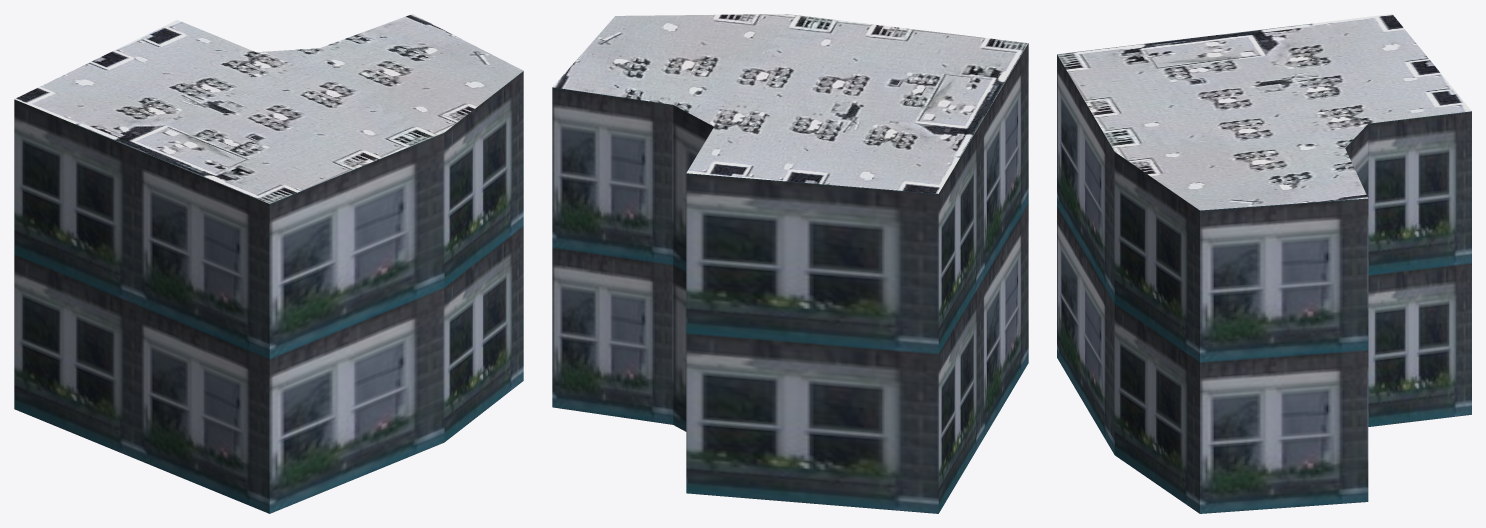
The model's file is ResTex__2841.fbx.
3 views of the same model, side by side, from view 1: azimuth 30°, elevation 25°; view 2: azimuth 150°, elevation 25°; view 3: azimuth 270°, elevation 25° (orthographic). The views are drawn at different scales.
Visible parts, largest first — view 1: CityEngineMaterial_11_m, CityEngineMaterial_m; view 2: CityEngineMaterial_11_m, CityEngineMaterial_m; view 3: CityEngineMaterial_11_m, CityEngineMaterial_m.
Part boxes in pixels (box(x1,y1,x2,y2)): CityEngineMaterial_11_m: box(14, 71, 523, 513); CityEngineMaterial_m: box(14, 14, 523, 203); CityEngineMaterial_11_m: box(552, 43, 1028, 513); CityEngineMaterial_m: box(553, 14, 1028, 193); CityEngineMaterial_11_m: box(1057, 54, 1471, 513); CityEngineMaterial_m: box(1057, 14, 1471, 210).
Size of the model in its own units: 8.33 by 6 by 7.44.
2 materials, 2 textured.
